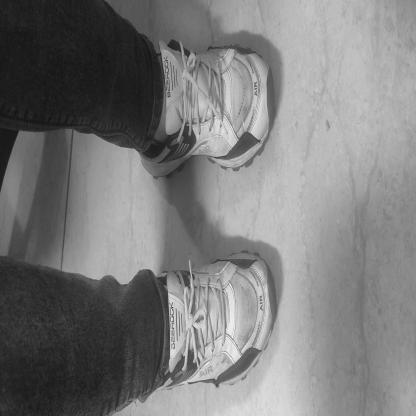ankle: (172, 330, 178, 335), (164, 136, 167, 145)
heel: (161, 382, 165, 389), (155, 169, 159, 175)
left_foot: (142, 45, 274, 181)
pinky: (246, 53, 252, 61), (247, 352, 251, 362)
right_foot: (149, 251, 278, 402)
toe: (253, 129, 260, 139), (253, 263, 257, 273)
